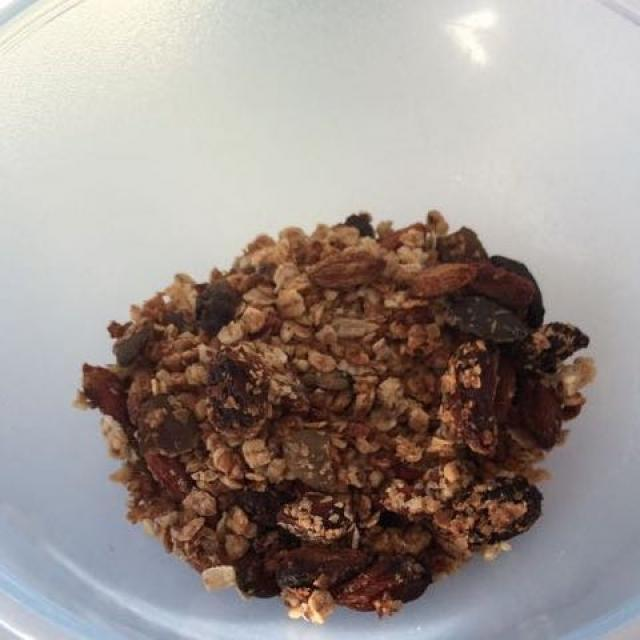crunch-muesli: (95, 217, 589, 610)
mixed-seeds: (164, 243, 490, 549)
